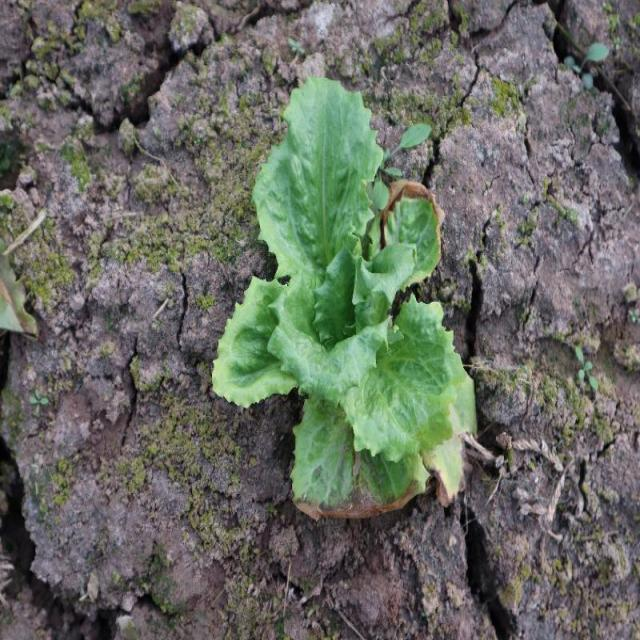crop: (214, 78, 455, 479)
